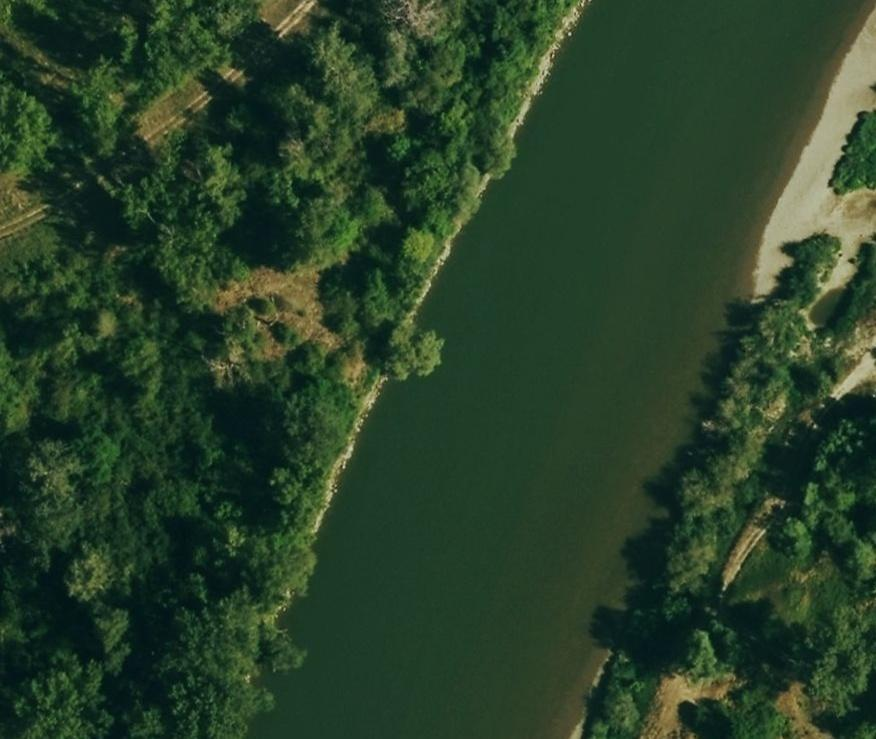forest: (0, 0, 575, 737), (583, 234, 876, 737)
lake: (252, 2, 872, 737)
